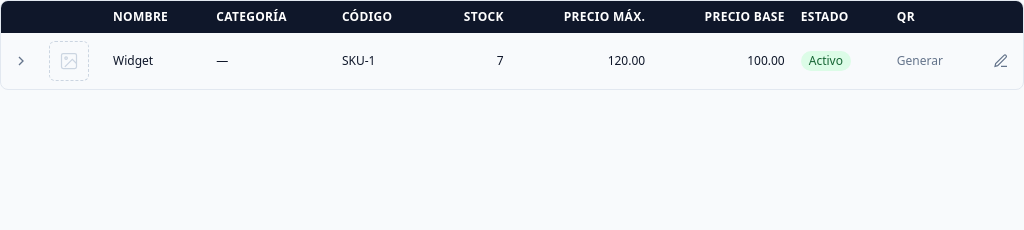
Test case: ProductsCatalogTable › shows an error message when the balances fetch fails
Click the button named "Expandir Widget".
click(21, 61)  # box [9,49,33,73]
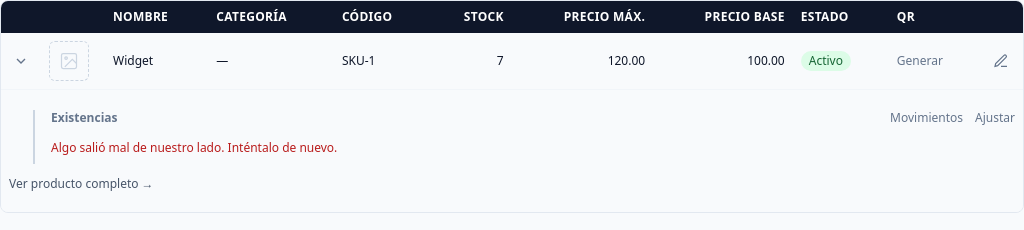
Expected: the text "Algo salió mal de nuestro lado. Inténtalo de nuevo." is shown, [51,139,337,156]
